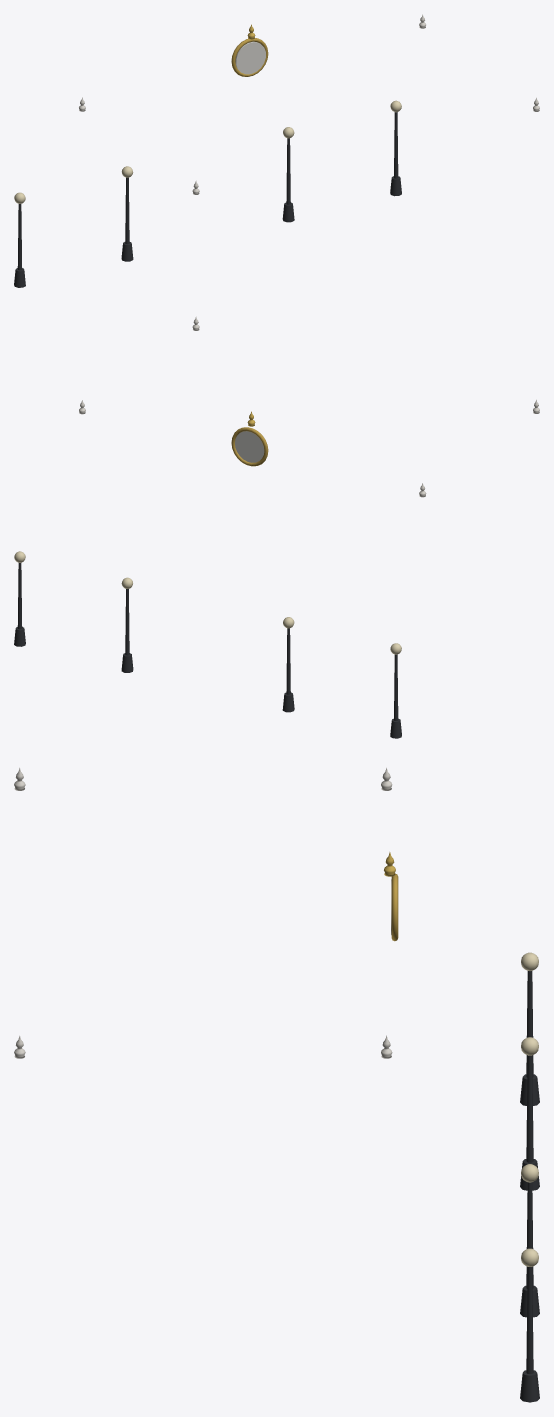
Rendered from gahue-hero.glb.
3 views of the same model, one above another, from view 1: azimuth 30°, elevation 25°; view 2: azimuth 150°, elevation 25°; view 3: azimuth 270°, elevation 25° (orthographic). The views are drawn at different scales.
Parts seen in each view (by area): view 1: gahue_hero; view 2: gahue_hero; view 3: gahue_hero.
Part boxes in pixels (box(x1,y1,x2,y2)): gahue_hero: box(14, 14, 539, 287); gahue_hero: box(14, 316, 539, 738); gahue_hero: box(14, 767, 539, 1402).
Bounding box in the file's own units: 21.6 × 13.2 × 15.77.
